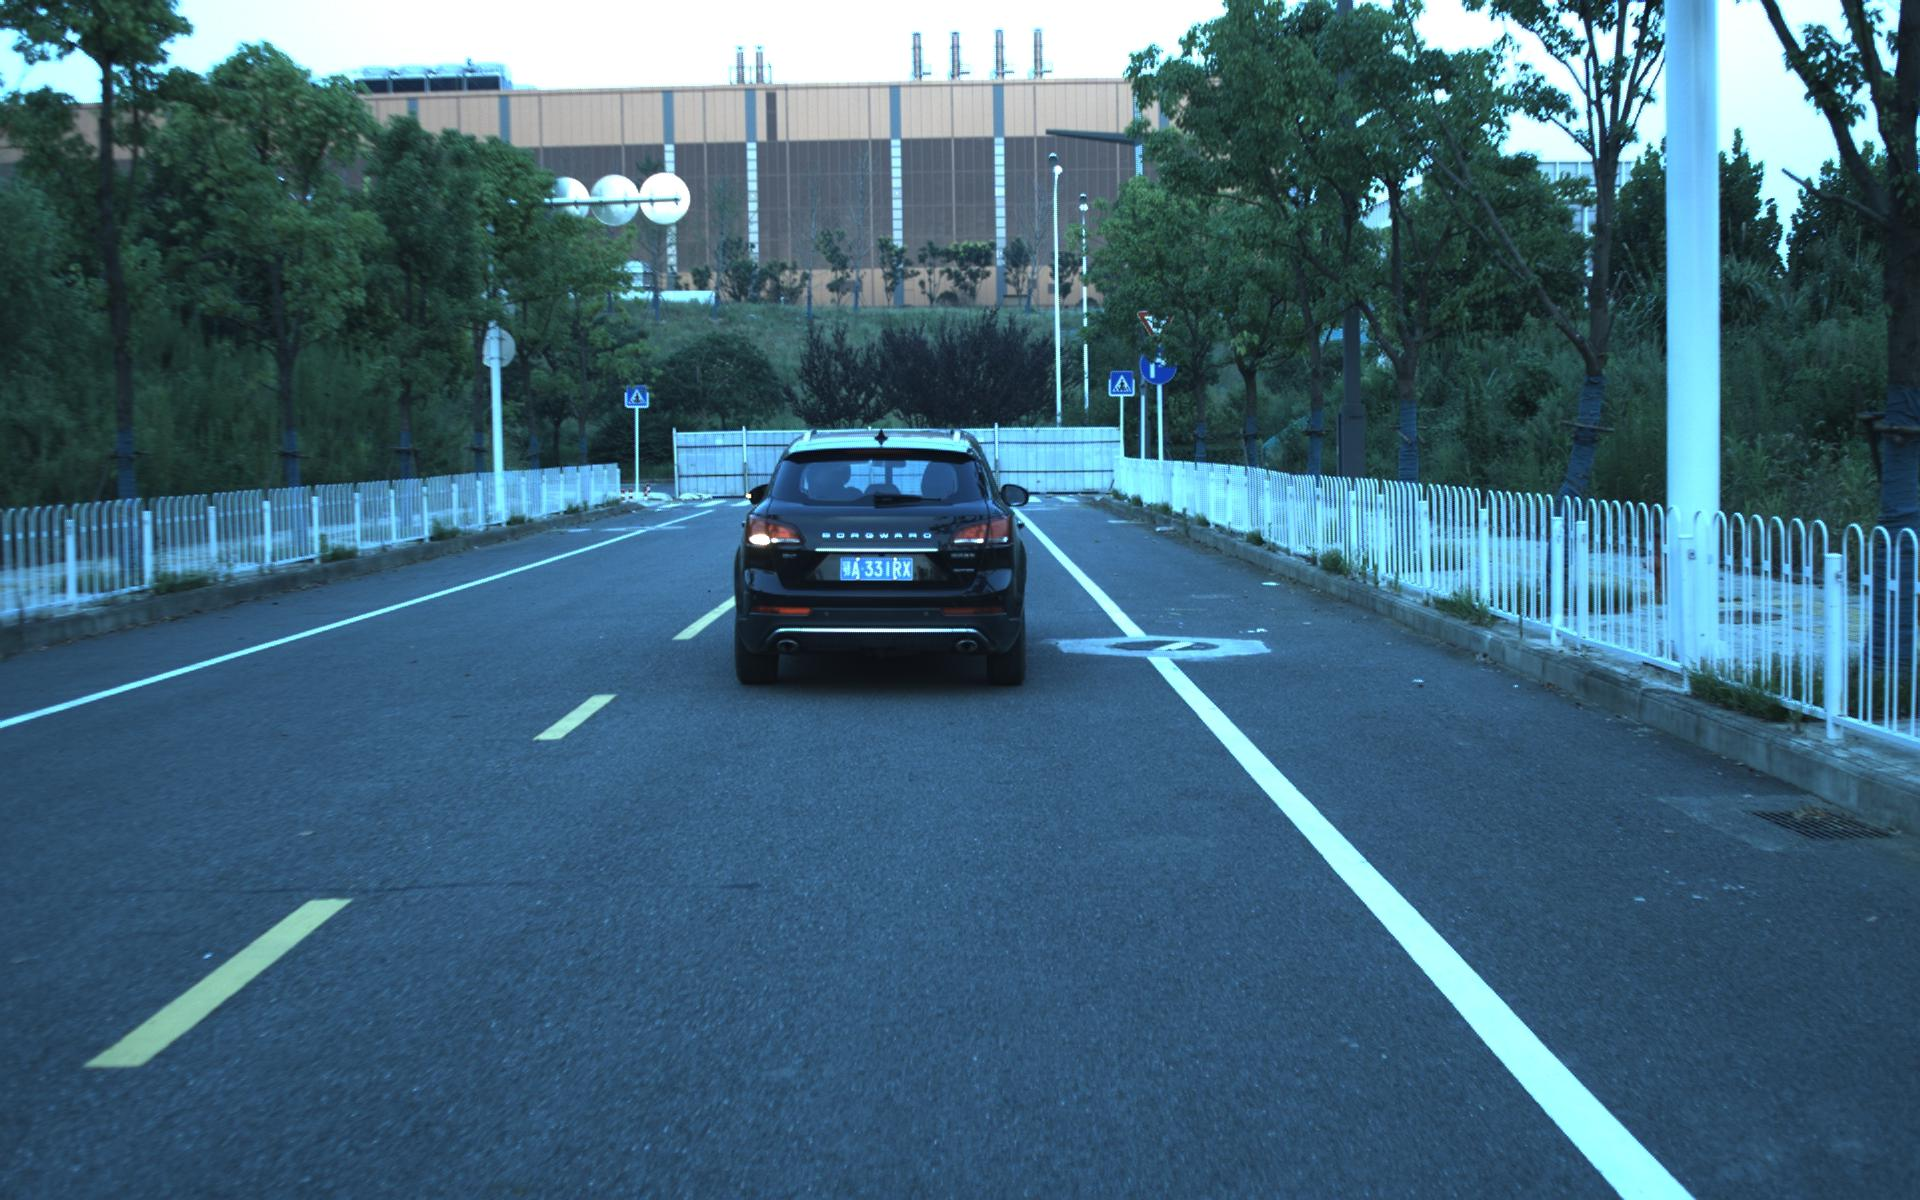Car: (730, 419, 1028, 688)
